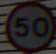Speed limit: (4, 2, 50, 48)
